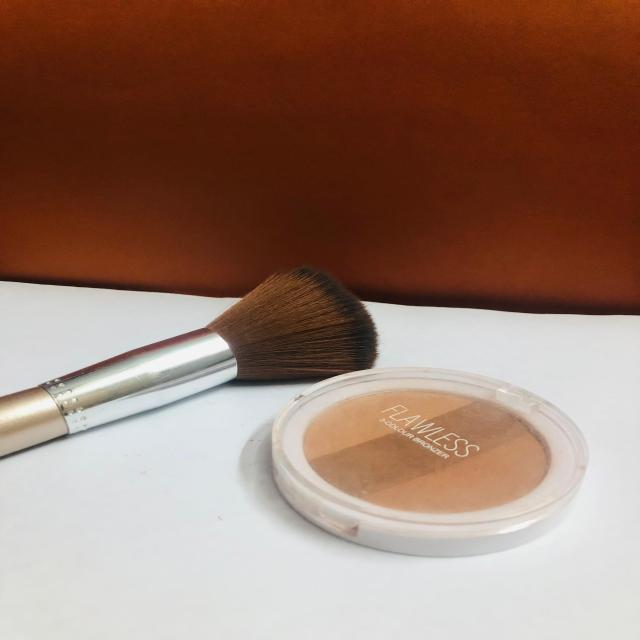bronzer: (288, 361, 574, 539)
brush: (0, 246, 403, 479)
